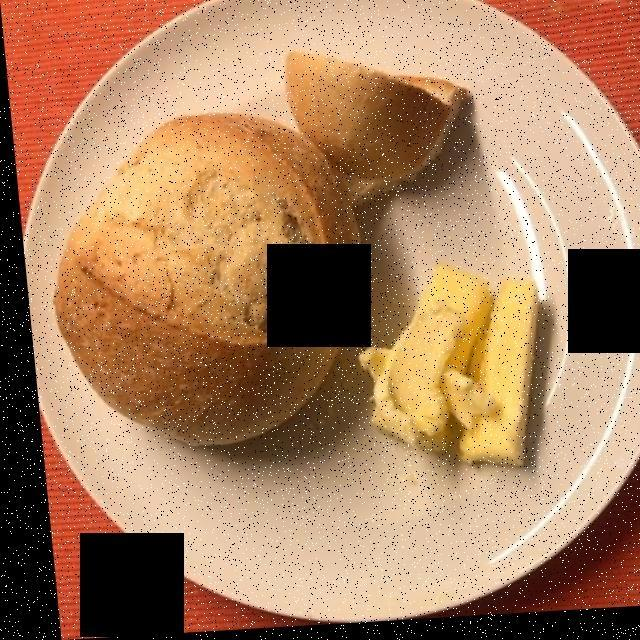bread: (47, 57, 487, 452)
butter: (356, 273, 533, 470)
